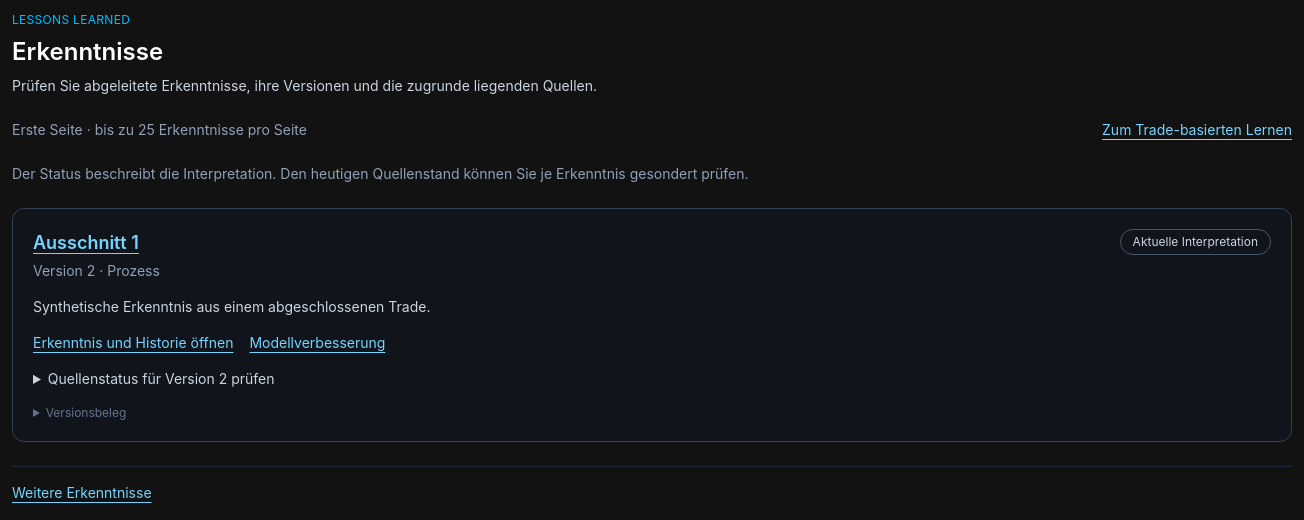
Test: LessonListPage › returns through every previously visited page without changing opaque cursors
This screenshot has width=1304, height=520.
What coordinates should you click on to do the following:
click the link "Weitere Erkenntnisse"
I would click on:
 (82, 493)
Its box is 12,483 -> 152,503.
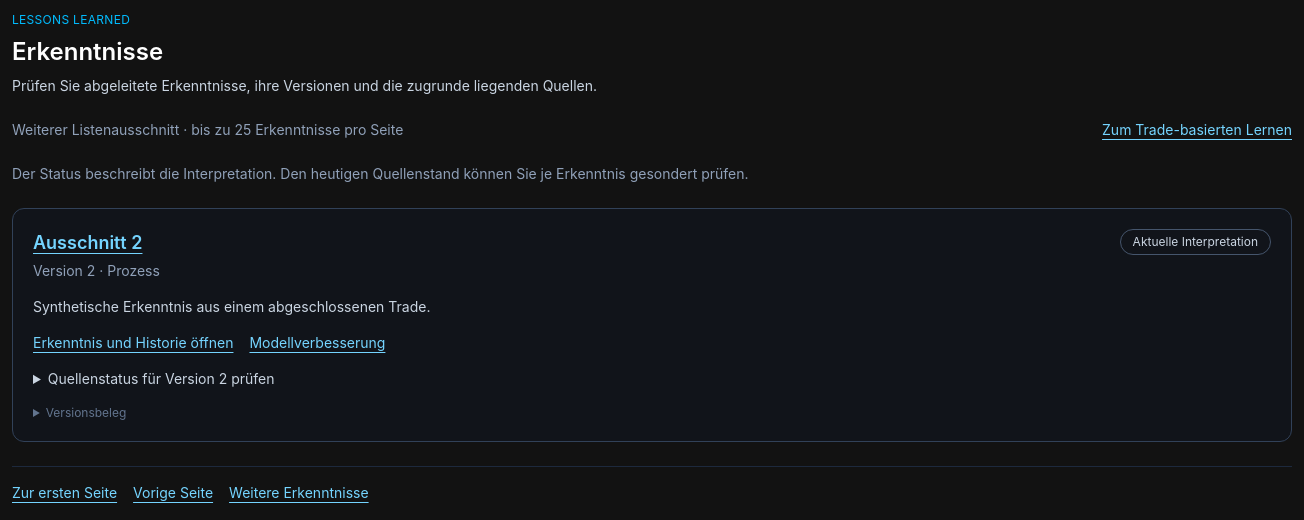
Result: the link "Ausschnitt 2" is shown at 33,232 -> 142,253
What coordinates should you click on to do the following:
click the link "Weitere Erkenntnisse"
I would click on:
 (299, 493)
Its box is 229,483 -> 368,503.
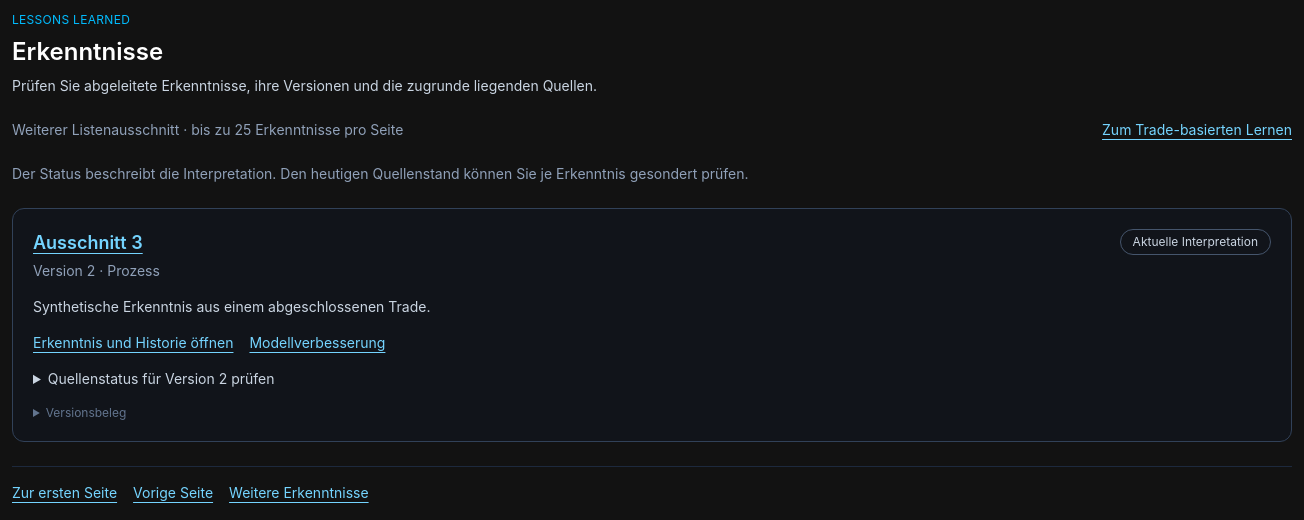
Result: the link "Ausschnitt 3" is shown at 33,232 -> 143,253
What coordinates should you click on to do the following:
click the link "Weitere Erkenntnisse"
I would click on:
 (299, 493)
Its box is 229,483 -> 368,503.
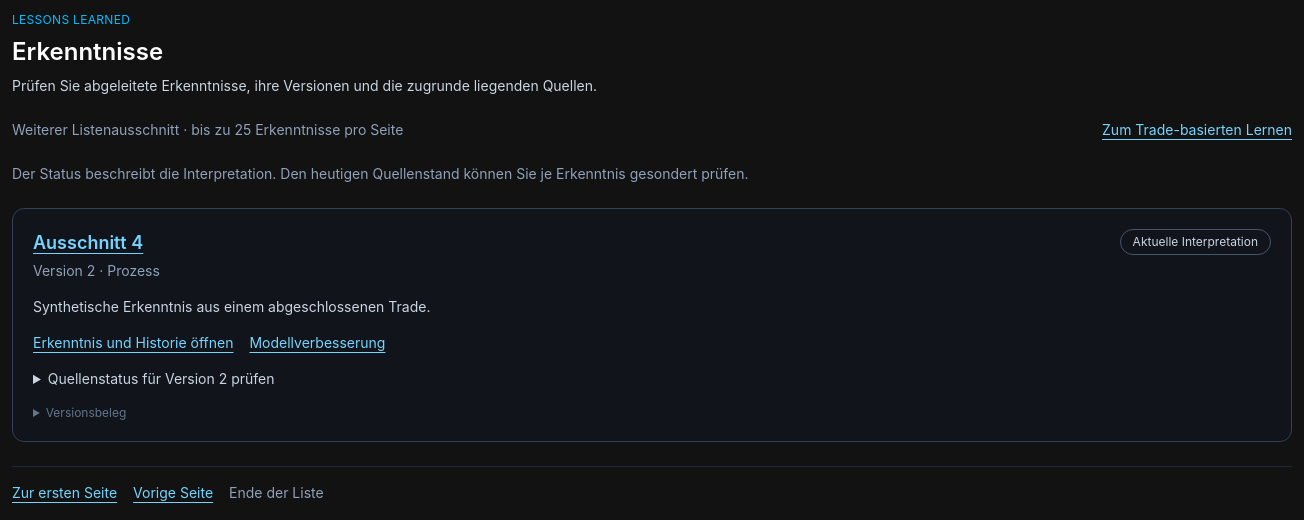
What coordinates should you click on to do the following:
click the link "Vorige Seite"
I would click on:
 (173, 493)
Its box is 133,483 -> 213,503.
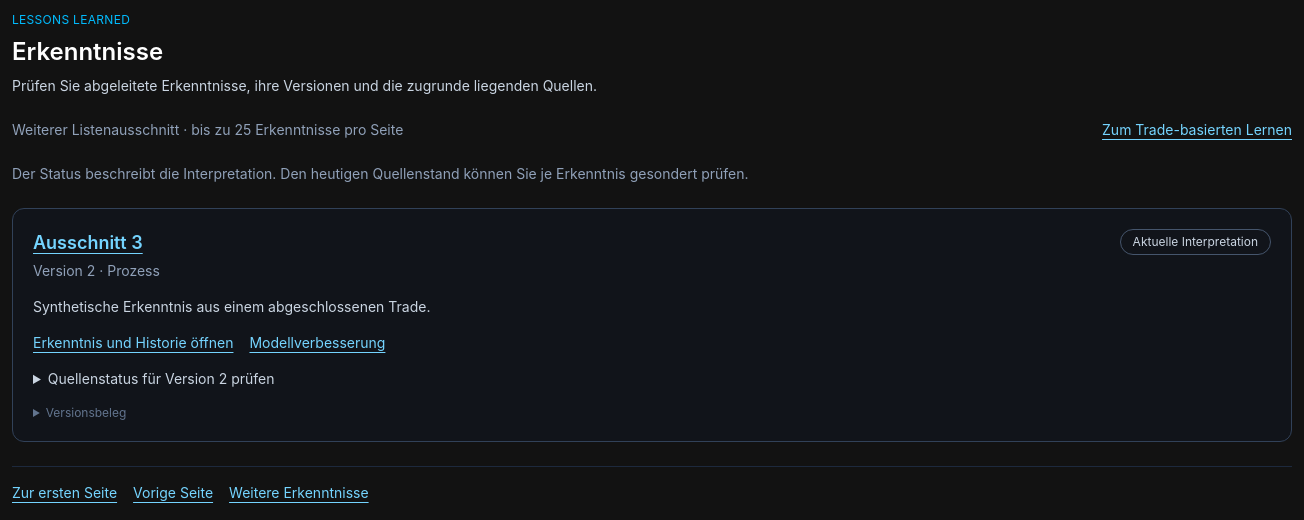
Result: the link "Ausschnitt 3" is shown at 33,232 -> 143,253
What coordinates should you click on to do the following:
click the link "Vorige Seite"
I would click on:
 (173, 493)
Its box is 133,483 -> 213,503.
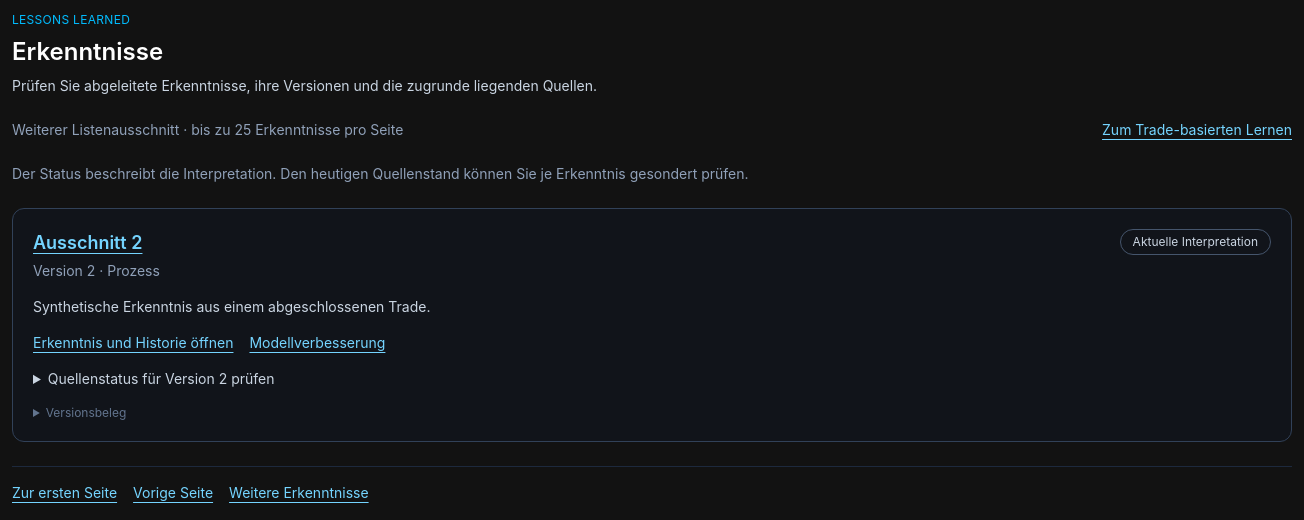
Result: the link "Ausschnitt 2" is shown at 33,232 -> 142,253
What coordinates should you click on to do the following:
click the link "Vorige Seite"
I would click on:
 (173, 493)
Its box is 133,483 -> 213,503.
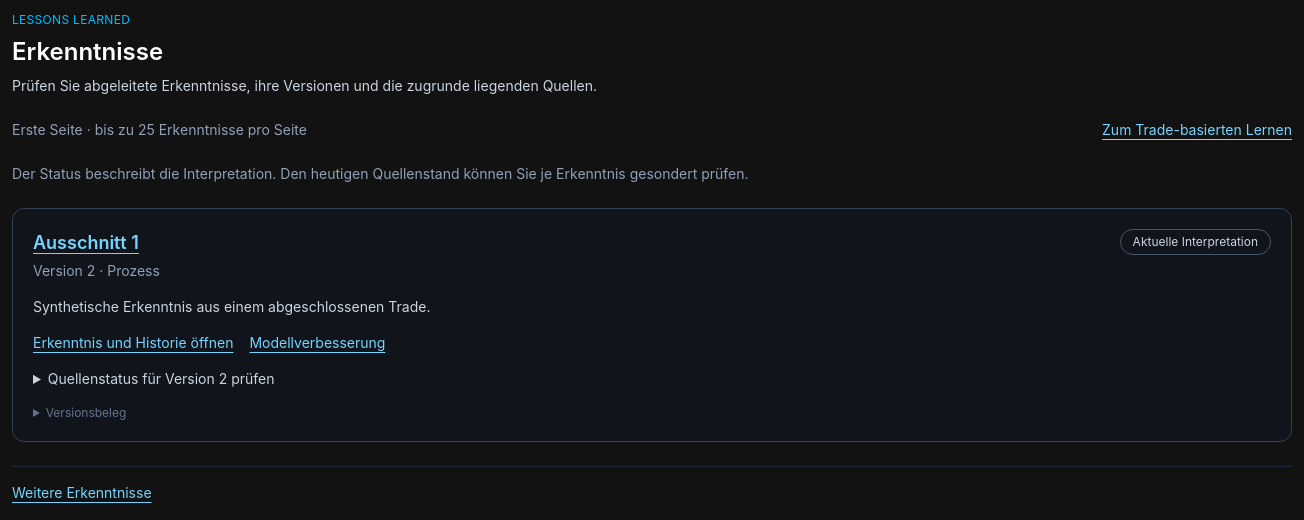
Result: the link "Ausschnitt 1" is shown at 33,232 -> 139,253
Result: the link "Vorige Seite" is gone
